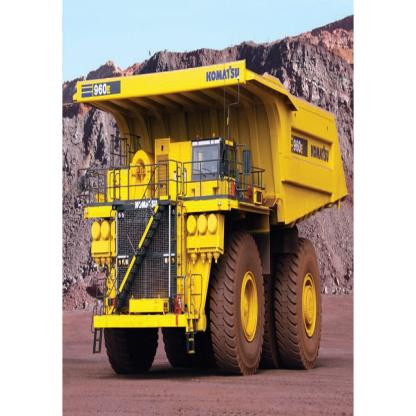dump_truck: (76, 52, 345, 373)
